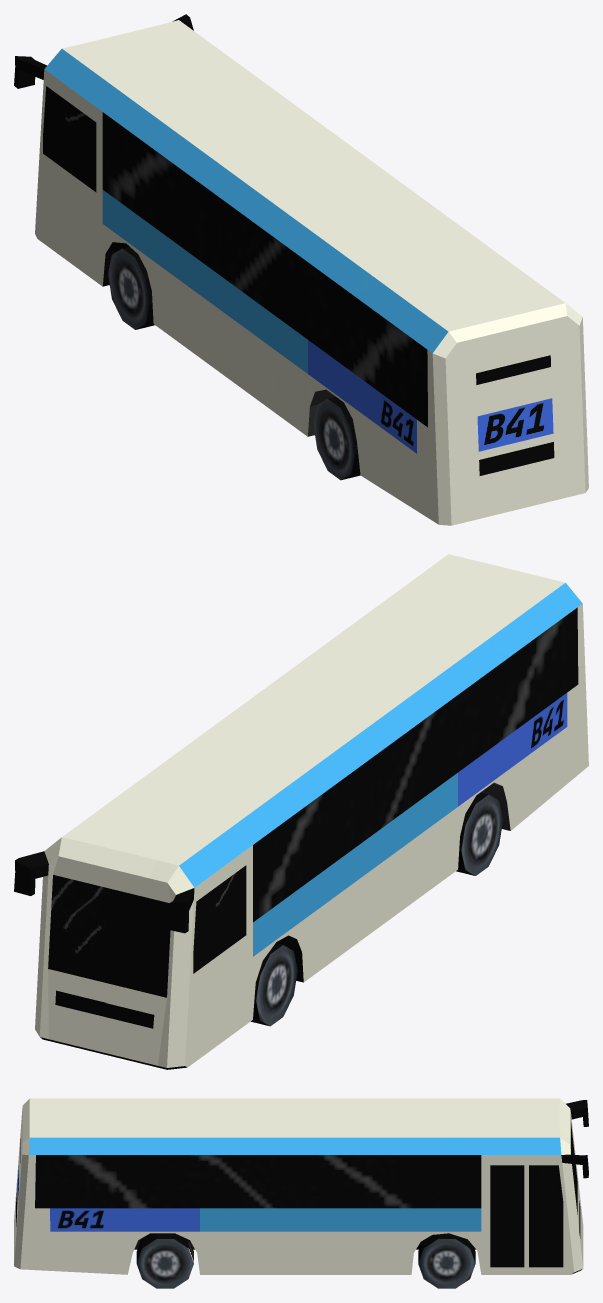
The model's file is BusNew.glb.
3 views of the same model, one above another, from view 1: azimuth 30°, elevation 25°; view 2: azimuth 150°, elevation 25°; view 3: azimuth 270°, elevation 25° (orthographic). The views are drawn at different scales.
Parts seen in each view (by area): view 1: Cylinder.002; view 2: Cylinder.002; view 3: Cylinder.002.
Part boxes in pixels (x1=…): Cylinder.002: x1=14, y1=14, x2=588, y2=525; Cylinder.002: x1=14, y1=554, x2=588, y2=1069; Cylinder.002: x1=14, y1=1098, x2=588, y2=1288.
Bounding box in the file's own units: 6.79 × 8.05 × 28.78.
2 materials, 2 textured.
